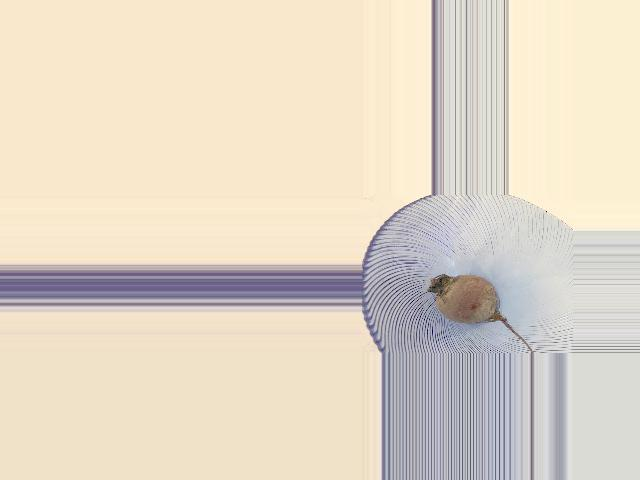beet: (427, 275, 532, 354)
